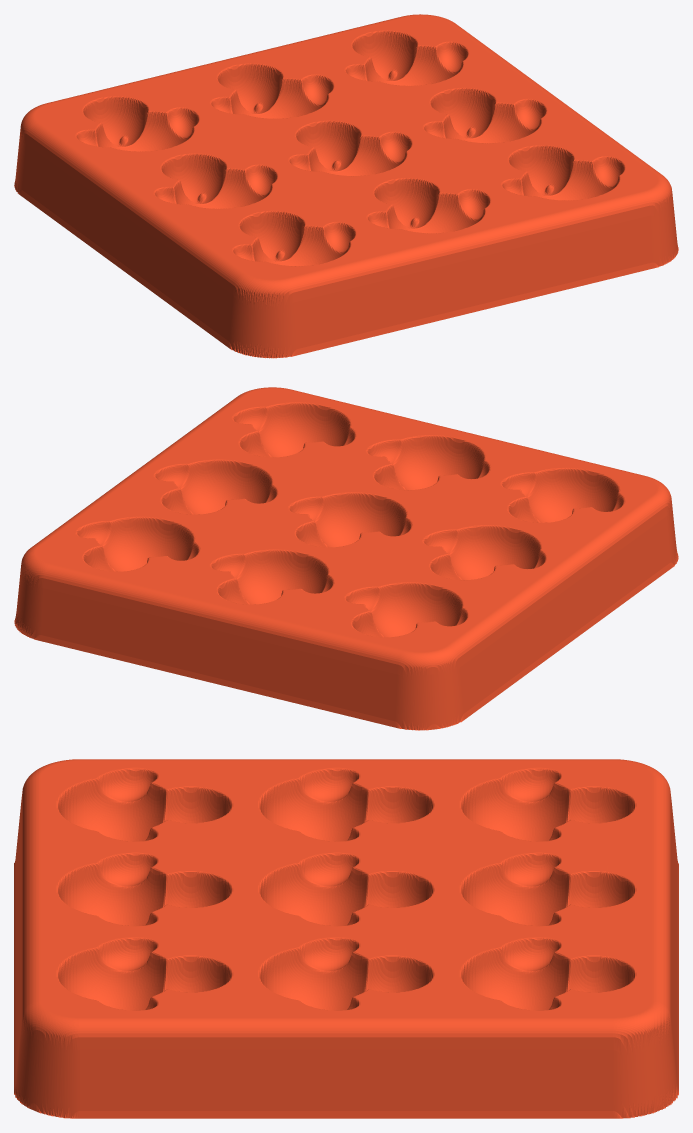
Rendered from mold.glb.
The picture shows the model from 3 angles, top to bottom: view 1: azimuth 30°, elevation 25°; view 2: azimuth 150°, elevation 25°; view 3: azimuth 270°, elevation 25°; orthographic projection. The views are drawn at different scales.
Visible parts, largest first — view 1: geometry_0; view 2: geometry_0; view 3: geometry_0.
Part boxes in pixels (x1=…): geometry_0: x1=14, y1=14, x2=678, y2=358; geometry_0: x1=14, y1=387, x2=678, y2=730; geometry_0: x1=14, y1=759, x2=678, y2=1118.
Bounding box in the file's own units: 0.0904 × 0.0136 × 0.091.
